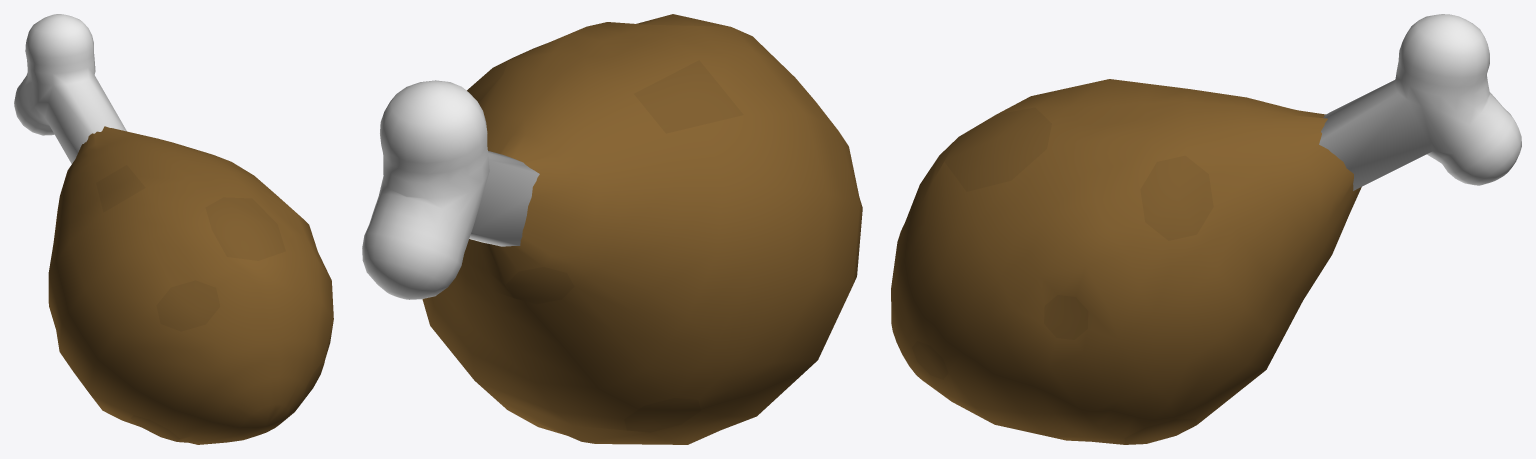
The model's file is P_DrumStick.fbx.
3 renders of one model, left to right at view 1: azimuth 30°, elevation 25°; view 2: azimuth 150°, elevation 25°; view 3: azimuth 270°, elevation 25°, orthographic. The views are drawn at different scales.
Parts seen in each view (by area): view 1: Chiken Wings; view 2: Chiken Wings; view 3: Chiken Wings.
Boxes of the visible parts, bbox=[...] form: Chiken Wings: bbox=[14, 14, 333, 444]; Chiken Wings: bbox=[362, 14, 862, 444]; Chiken Wings: bbox=[891, 14, 1521, 444].
Size of the model in its own units: 1335 by 1629 by 2273.
